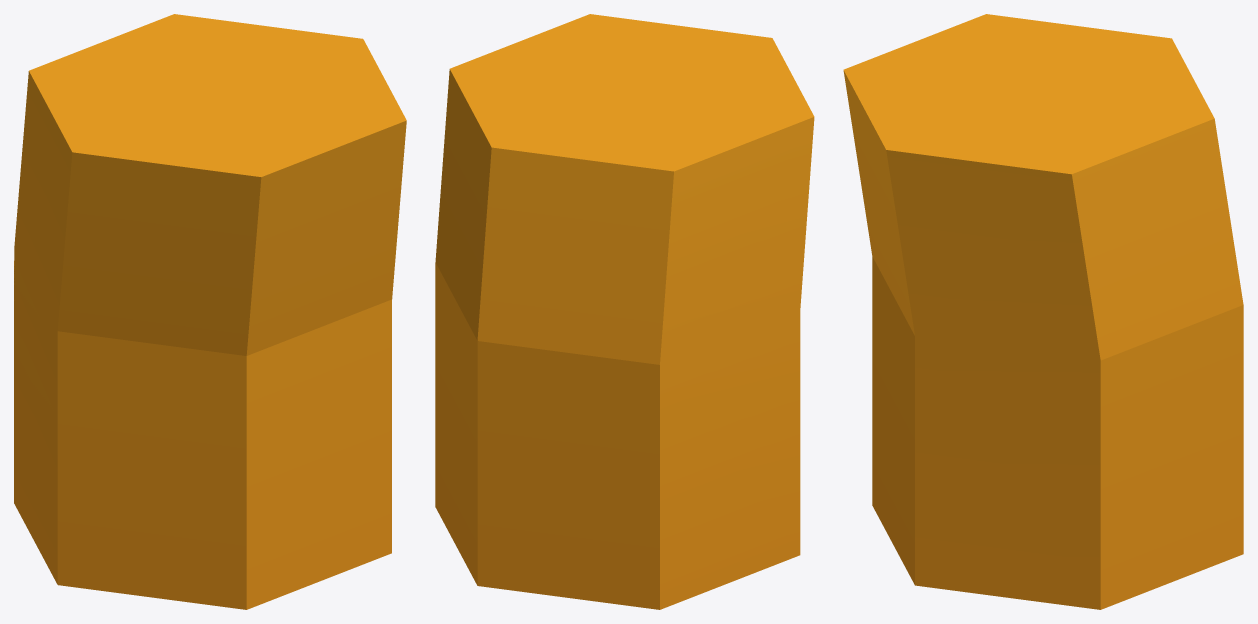
The model's file is Coin_03.fbx.
The picture shows the model from 3 angles, left to right: view 1: azimuth 30°, elevation 25°; view 2: azimuth 150°, elevation 25°; view 3: azimuth 270°, elevation 25°; orthographic projection. The views are drawn at different scales.
Parts seen in each view (by area): view 1: Coin_03; view 2: Coin_03; view 3: Coin_03.
Boxes of the visible parts, left/top/right/bottom form: Coin_03: left=14, top=14, right=406, bottom=609; Coin_03: left=435, top=14, right=814, bottom=609; Coin_03: left=843, top=14, right=1243, bottom=609.
Bounding box in the file's own units: 0.1329 × 0.1684 × 0.1402.
